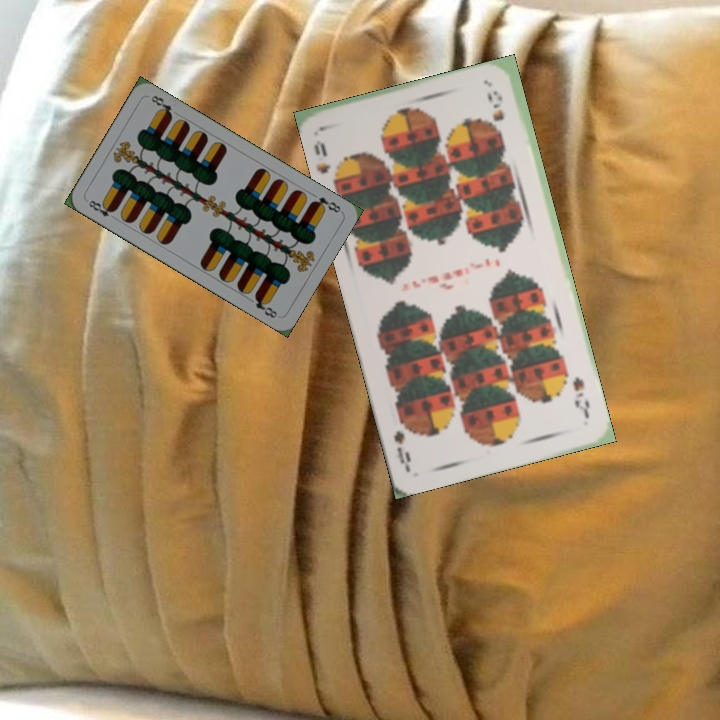E8: (83, 196, 119, 223), (307, 192, 343, 216)
S9: (310, 136, 346, 188), (568, 372, 592, 422)
